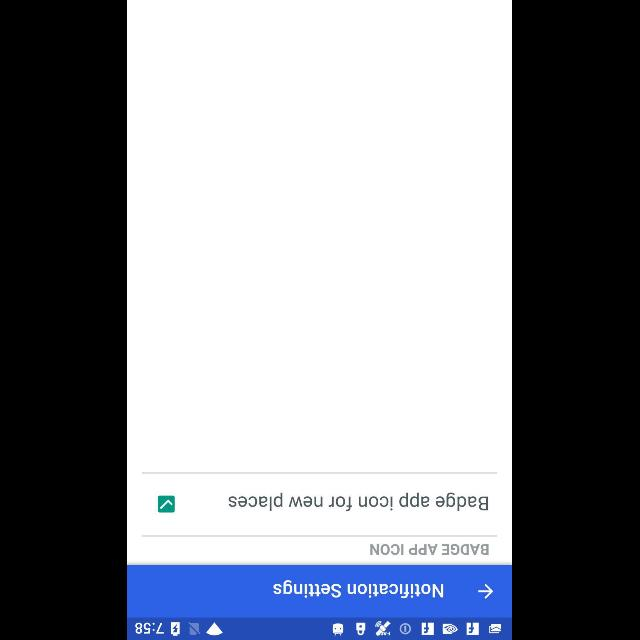checkbox: (158, 496, 176, 512)
icon: (479, 583, 495, 599)
text: (229, 492, 489, 512), (274, 580, 444, 598), (370, 543, 490, 555)
uppertaskbar: (128, 617, 512, 639)
